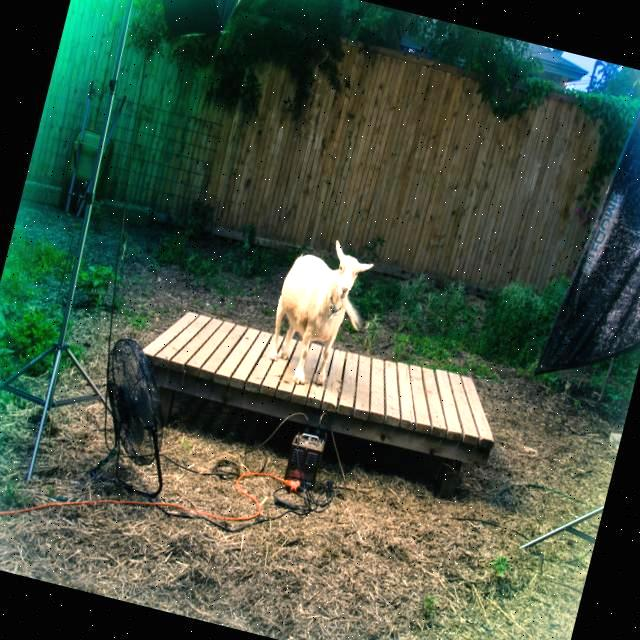sheep: (272, 244, 366, 381)
